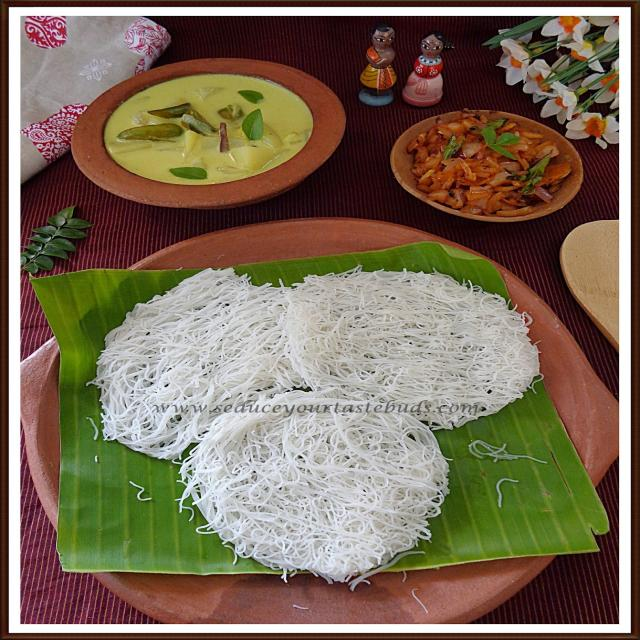IDIYAPPAM: (98, 270, 546, 579)
